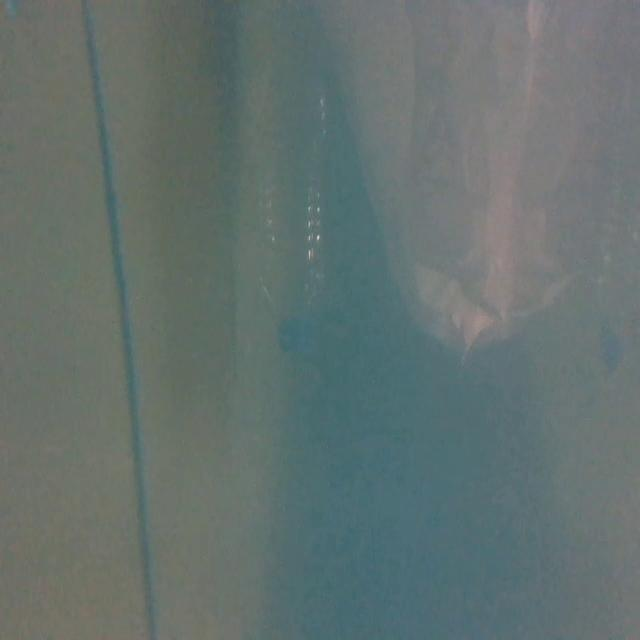plastic bags: (341, 0, 629, 367)
plastic bottle: (247, 74, 335, 353)
